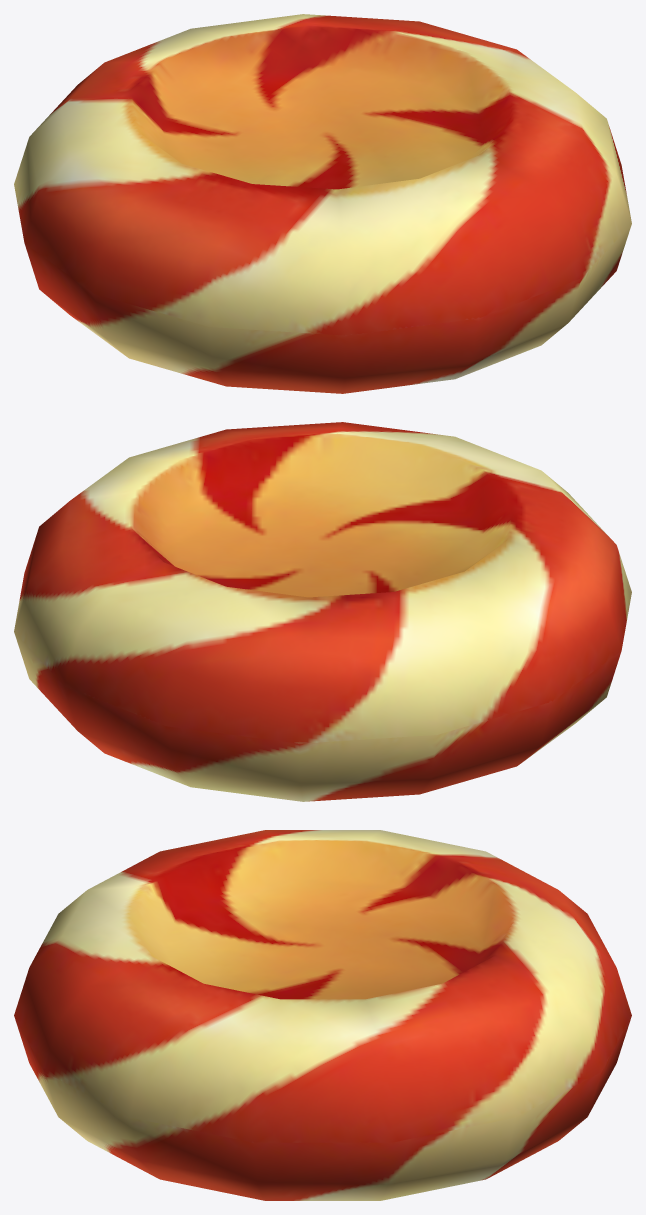
The model's file is BasicCandy.obj.
3 views of the same model, one above another, from view 1: azimuth 30°, elevation 25°; view 2: azimuth 150°, elevation 25°; view 3: azimuth 270°, elevation 25° (orthographic).
Parts seen in each view (by area): view 1: Object001; view 2: Object001; view 3: Object001.
Part boxes in pixels (bbox=[...]): Object001: bbox=[14, 14, 631, 393]; Object001: bbox=[14, 422, 631, 801]; Object001: bbox=[14, 830, 631, 1200].
Size of the model in its own units: 253 by 88.01 by 259.
Materials: 1 (1 with a texture image).
